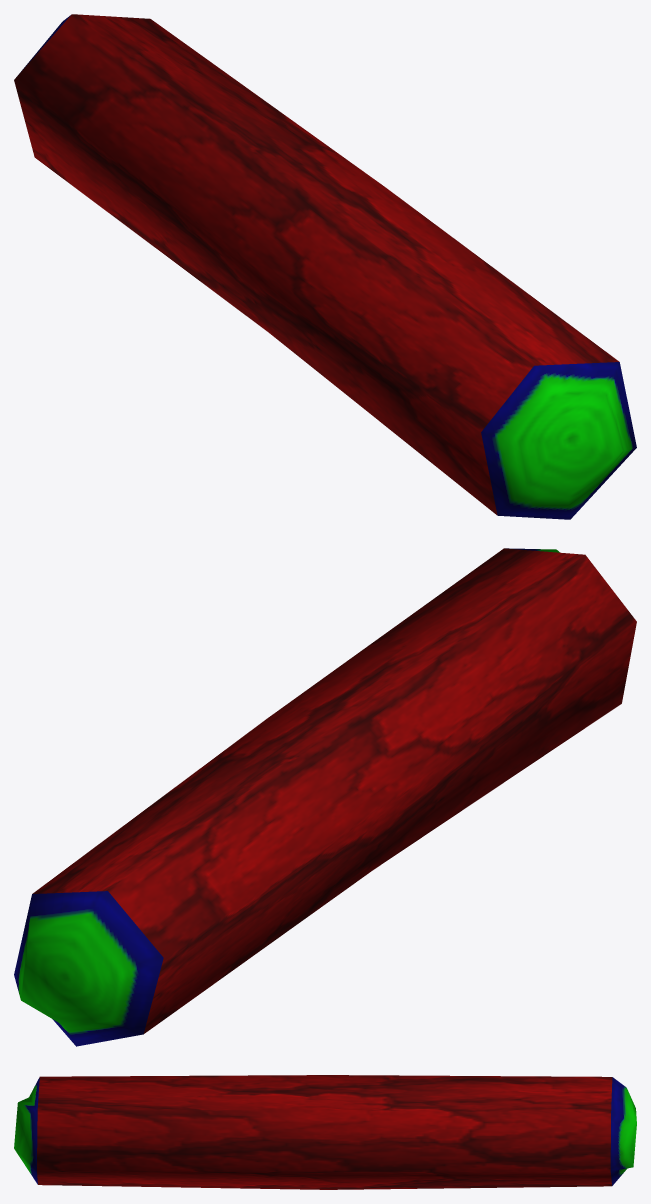
Rendered from Log01.fbx.
3 views of the same model, one above another, from view 1: azimuth 30°, elevation 25°; view 2: azimuth 150°, elevation 25°; view 3: azimuth 270°, elevation 25° (orthographic). The views are drawn at different scales.
Parts seen in each view (by area): view 1: Log01_LOD0; view 2: Log01_LOD0; view 3: Log01_LOD0.
Boxes of the visible parts, left/top/right/bottom form: Log01_LOD0: left=14, top=14, right=636, bottom=519; Log01_LOD0: left=14, top=548, right=636, bottom=1046; Log01_LOD0: left=14, top=1075, right=636, bottom=1189.
Size of what is drawn, in the model's own units: 0.1185 by 0.1189 by 0.6607.
